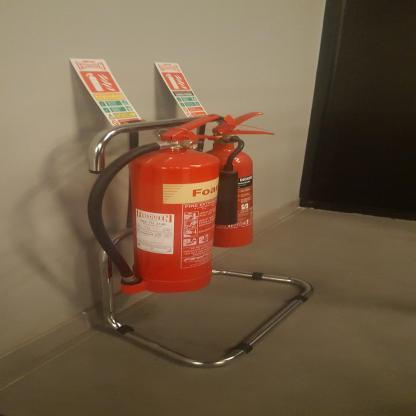Fire Extinguisher: (88, 114, 228, 293), (201, 111, 276, 248)
